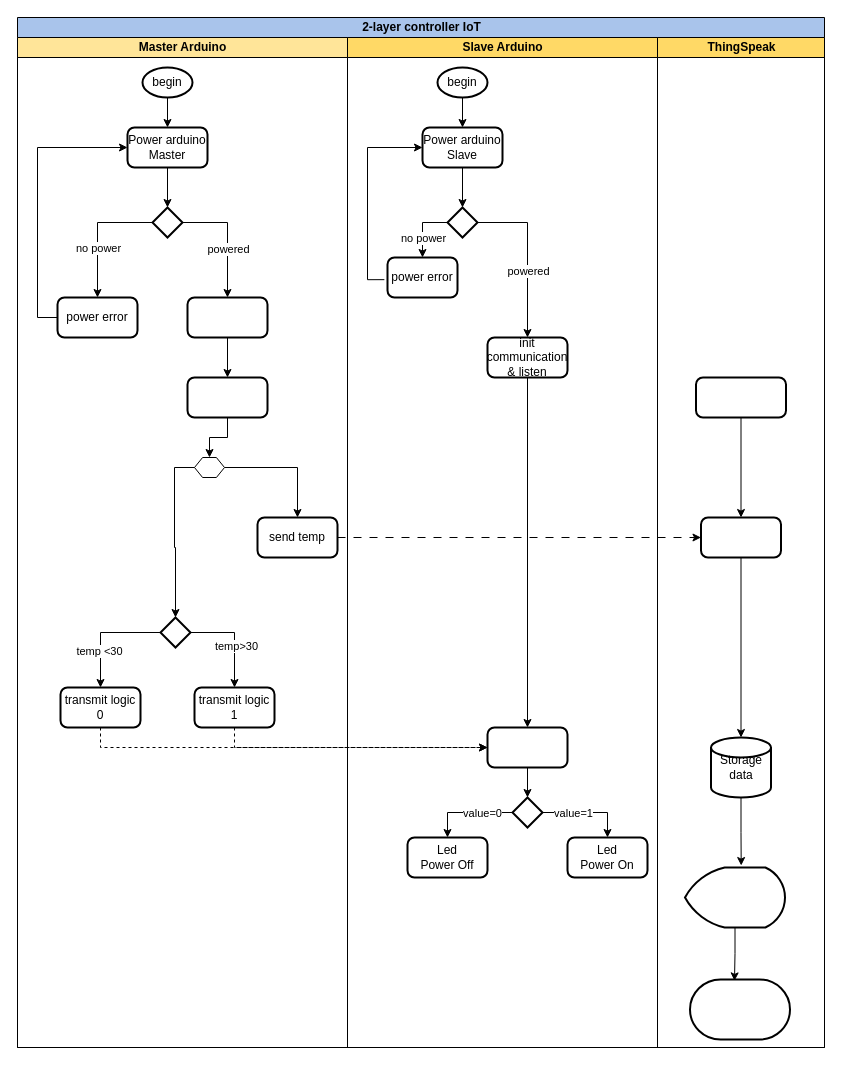
Image size: 842x1065. Some labels were removed from this diagram. Each missing label, with the centre of its shape:
Active /avaliable ThingSpeak: [740,397]
display data: [735,897]
end: [739,1009]
init communication & transmit: [227,317]
measure Temp (volts): [227,397]
recibe temp: [741,537]
Recive logic value: [527,747]
tranform into temp: [209,467]
